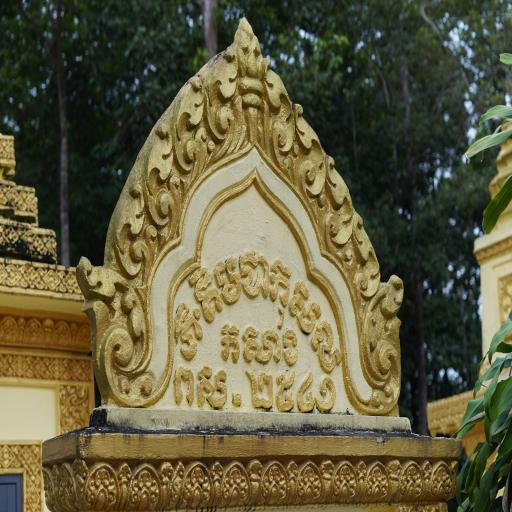la: (72, 252, 148, 402), (357, 272, 412, 416), (146, 125, 182, 240), (110, 167, 146, 272), (173, 73, 207, 174), (293, 98, 323, 206), (207, 45, 239, 146), (348, 208, 383, 300), (261, 62, 291, 164), (324, 148, 352, 257), (167, 456, 214, 512), (122, 459, 163, 512), (255, 456, 295, 507), (214, 456, 250, 512), (327, 452, 360, 506), (84, 464, 120, 512), (294, 456, 328, 506), (54, 460, 84, 512), (362, 454, 390, 508), (426, 457, 458, 504), (395, 454, 426, 500), (38, 468, 57, 510)
